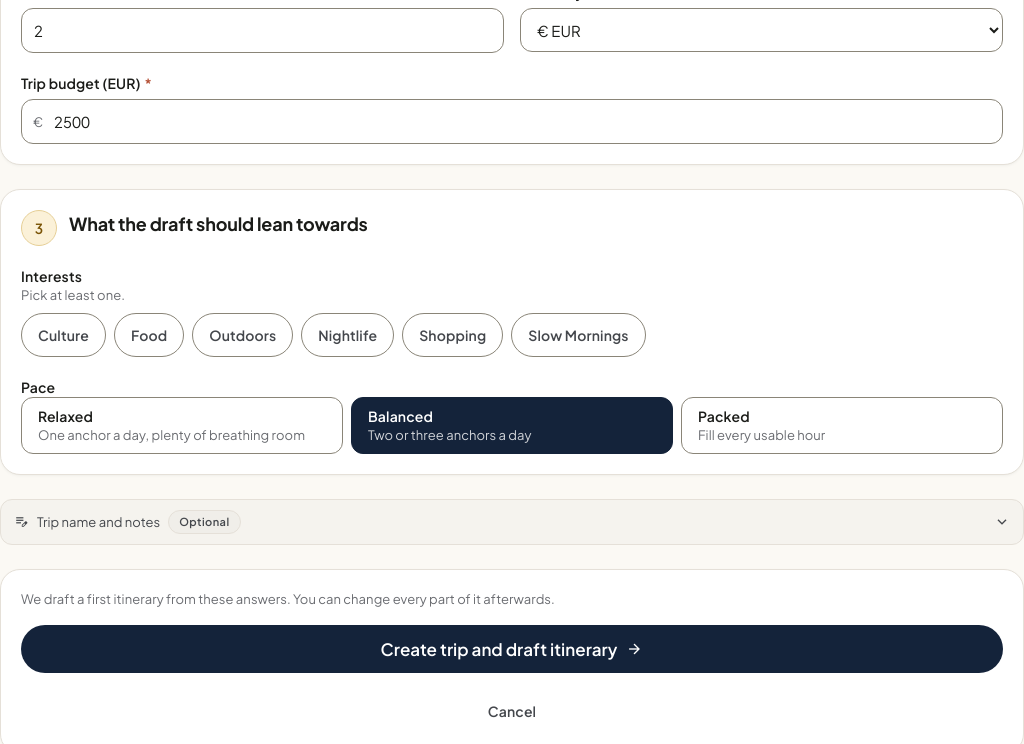
Test case: CreateTripPage › revalidates as the traveller answers, so the summary shrinks
The width and height of the screenshot is (1024, 744).
(page scrolled)
Click the button "Create trip and draft itinerary": click(512, 649) [21,625,1003,673]
(page scrolled)
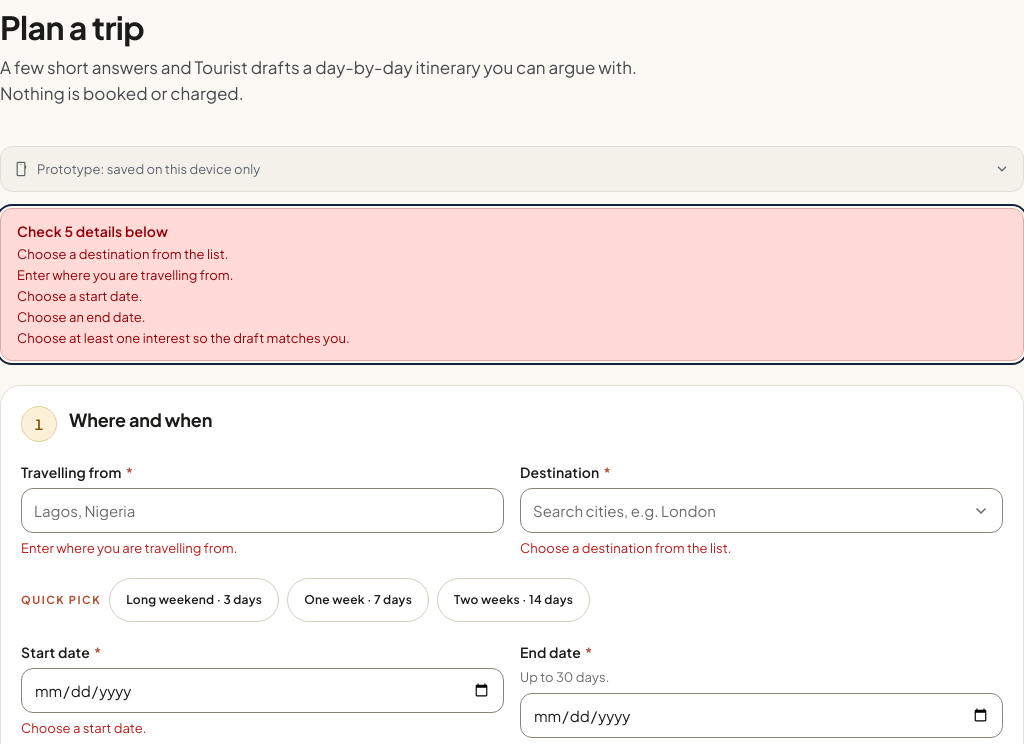
Check: the message shows "Check 5 details below", box [17,222,168,240]
In the dropdown labelled "Destination*": (762, 510) [520,488,1003,533], type "Barcelona"
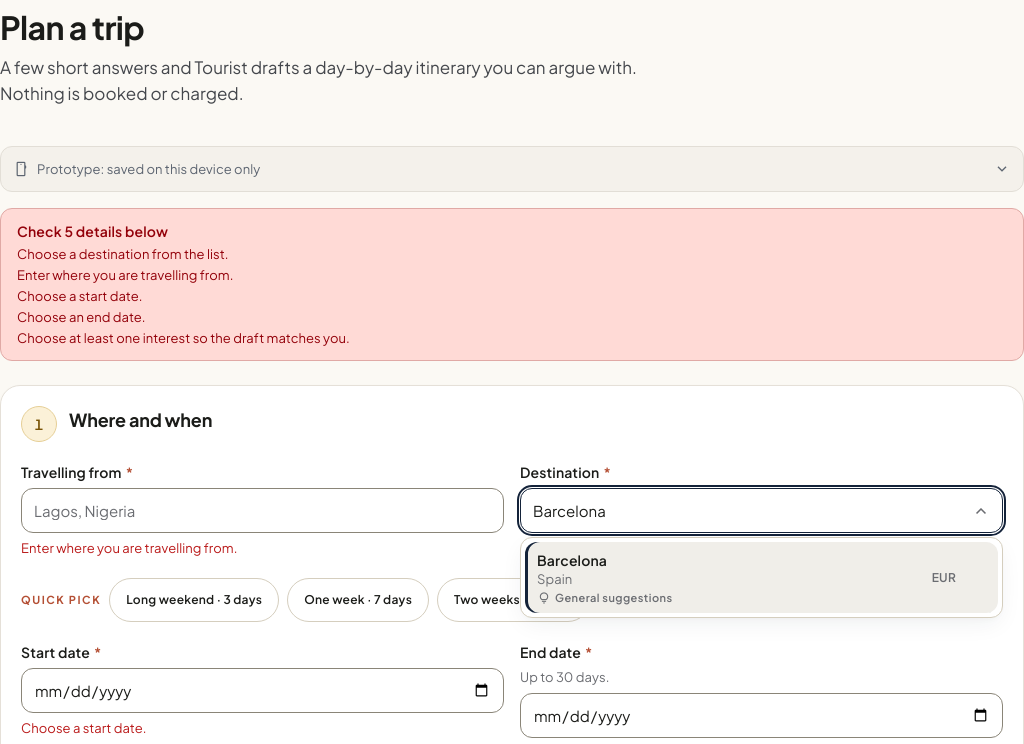
Click the option with aria-label "Barcelona, Spain": click(572, 560) [525,542,998,613]
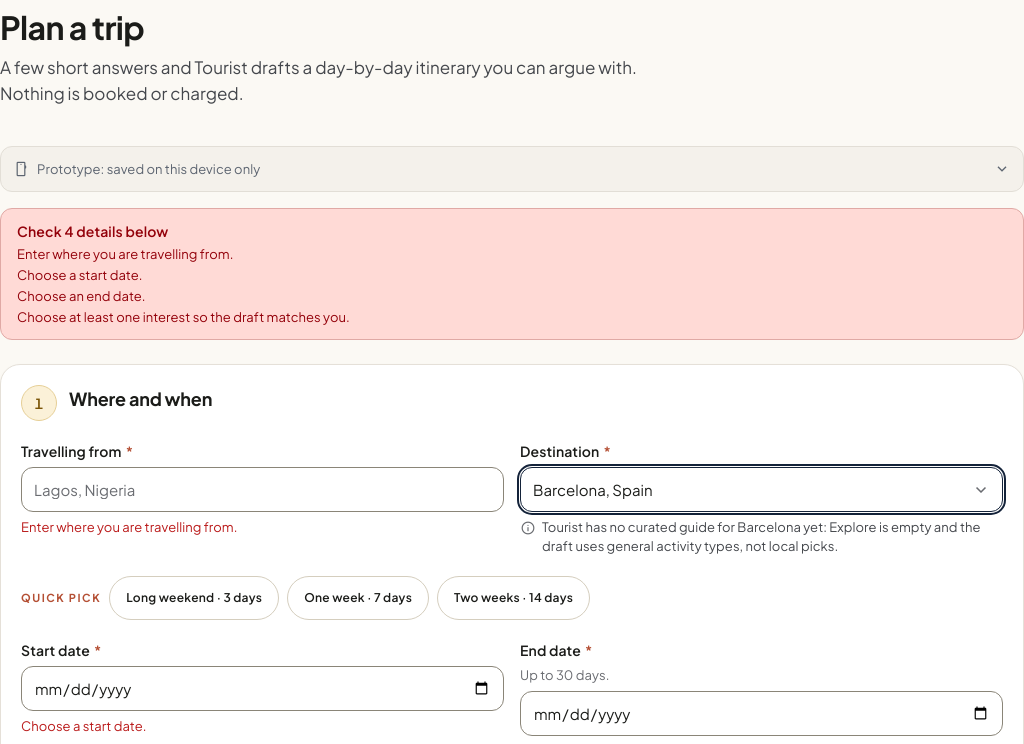
Check: the message shows "Check 4 details below", box [17,222,168,240]
Check: the message no longer shows "Choose a destination from the list.", box [0,208,1023,340]
